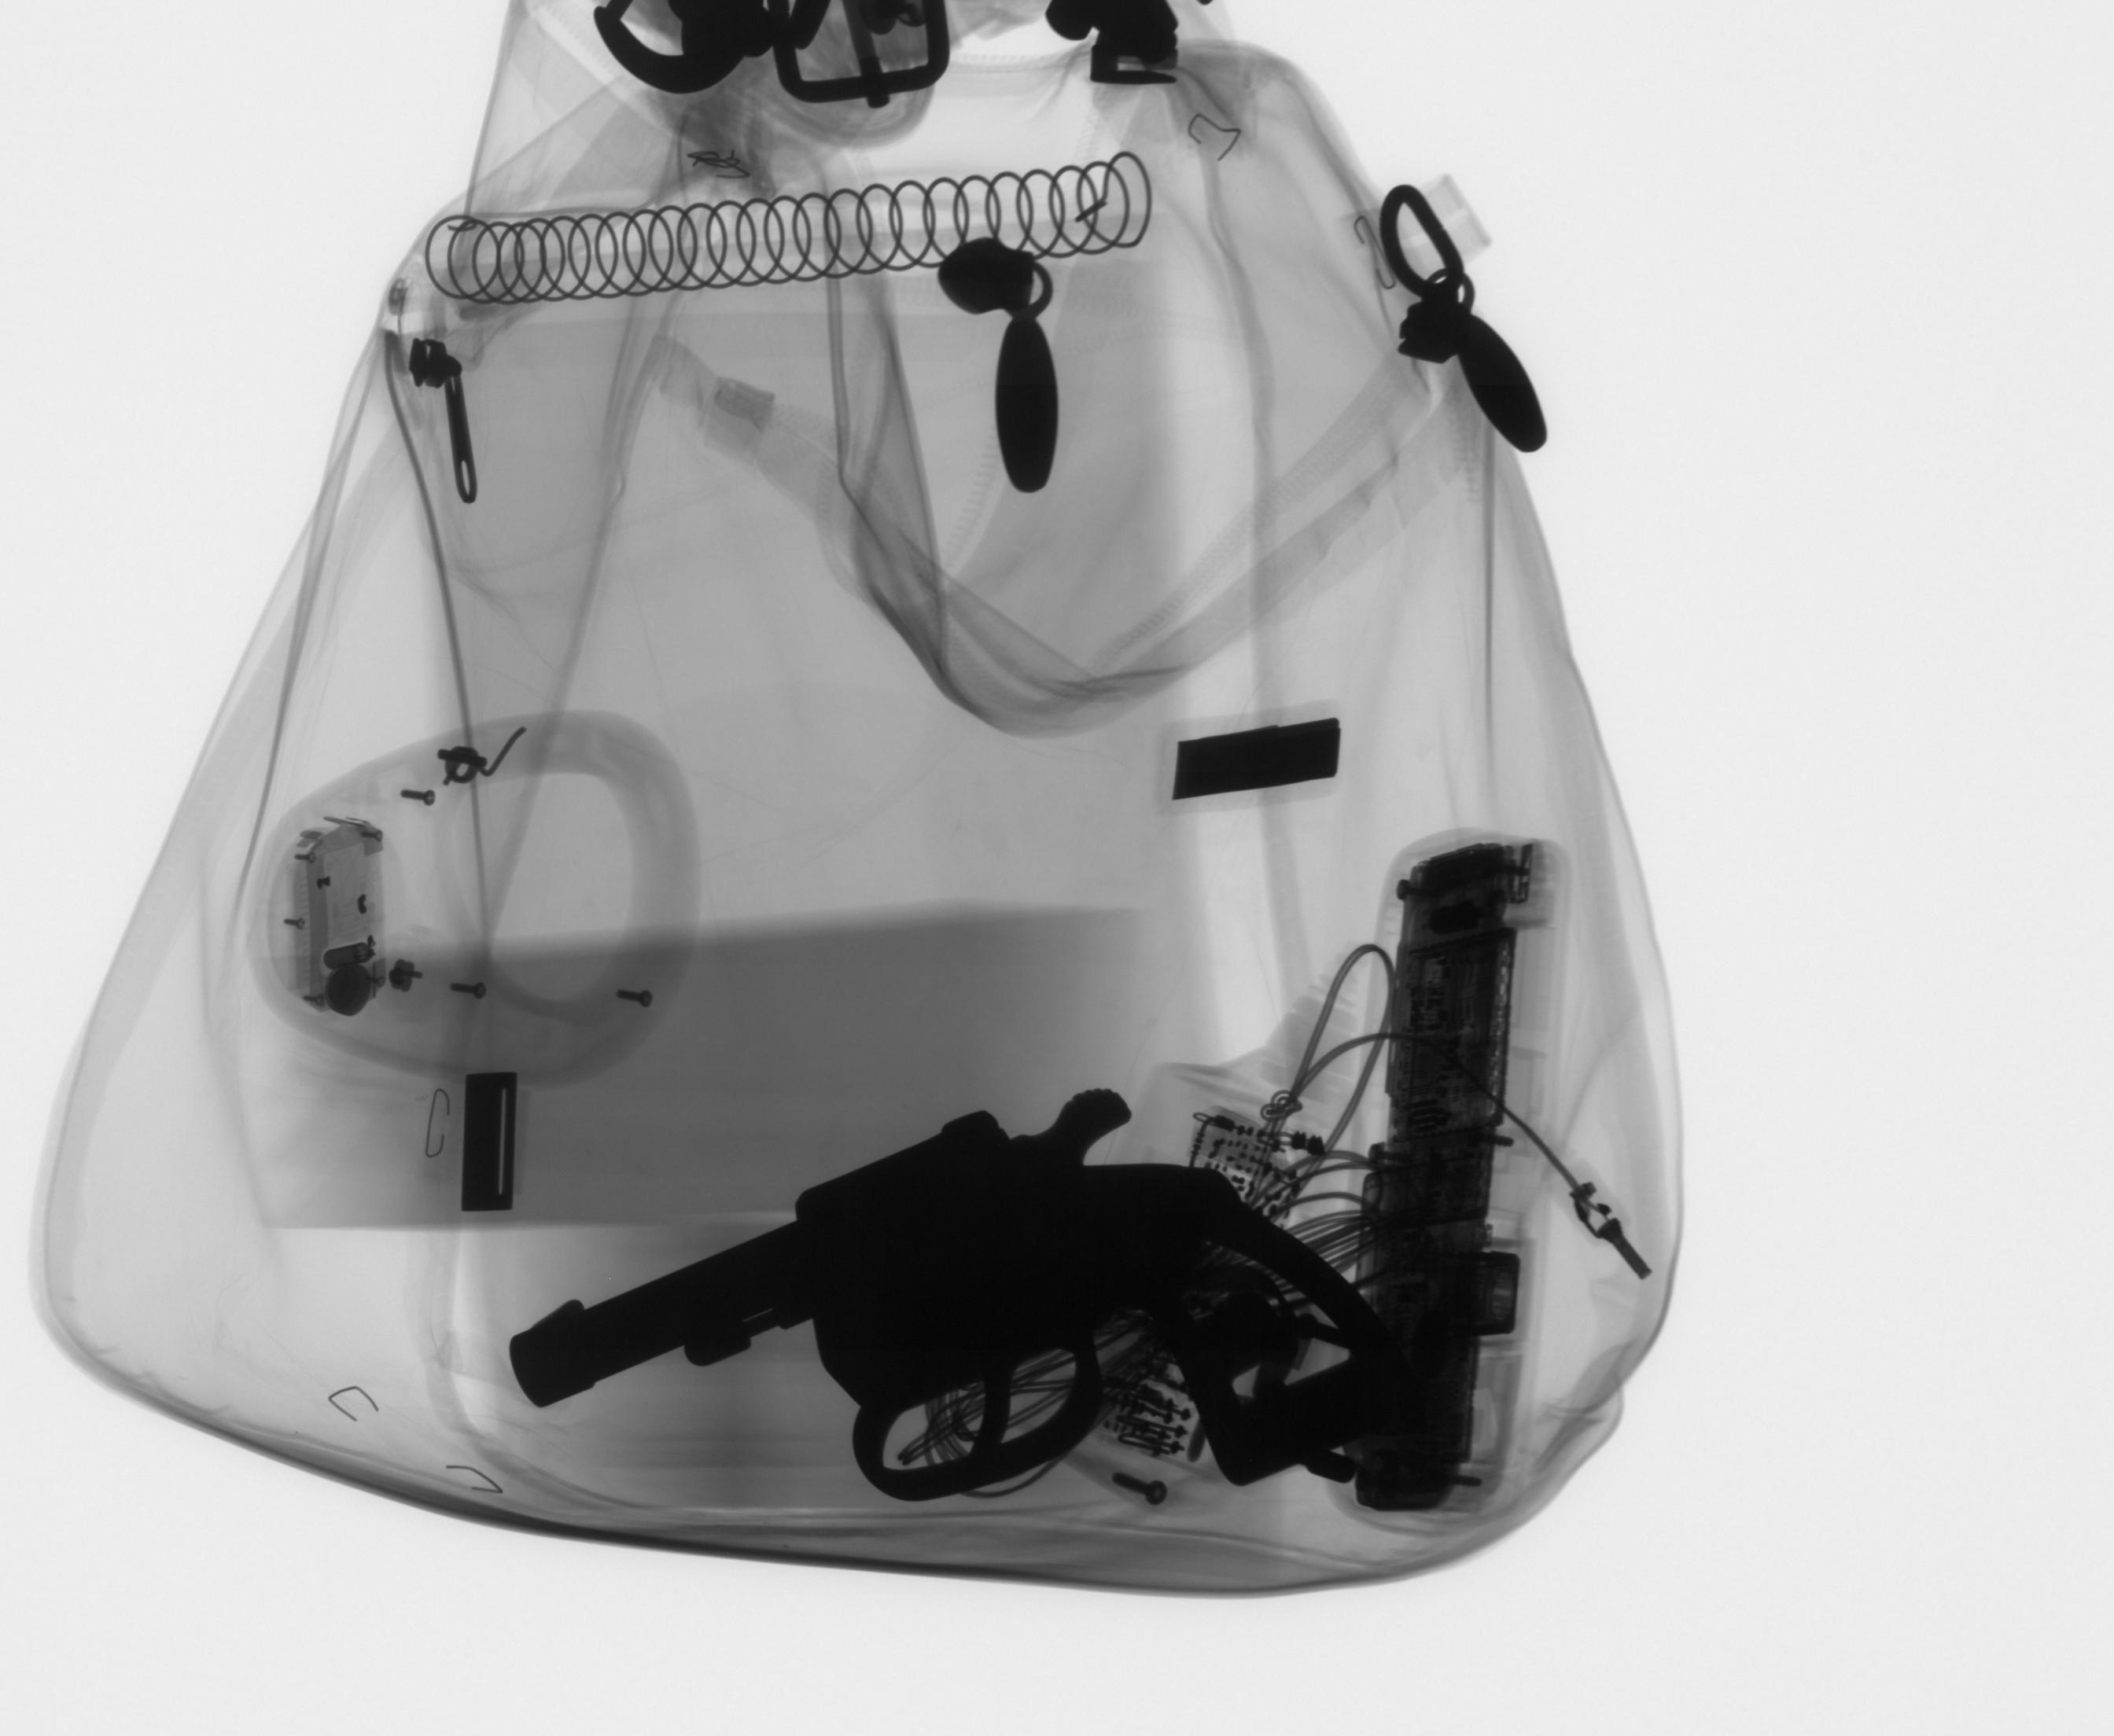Handgun: (500, 1080, 1429, 1524)
